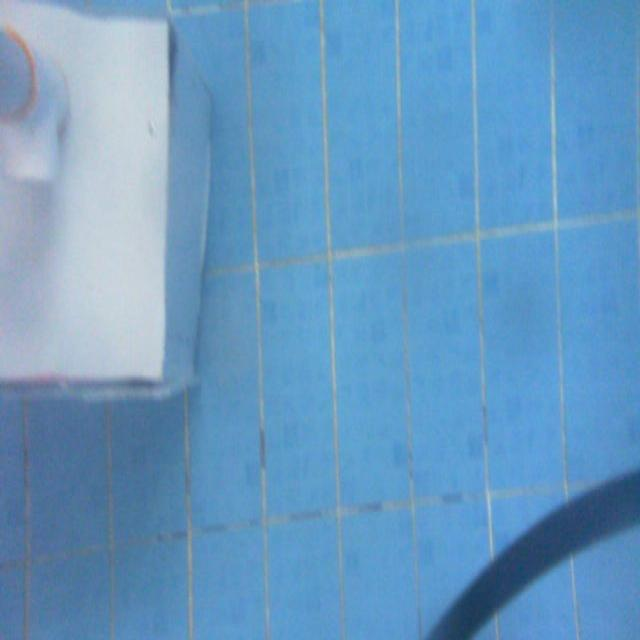Cube: (0, 0, 213, 400)
